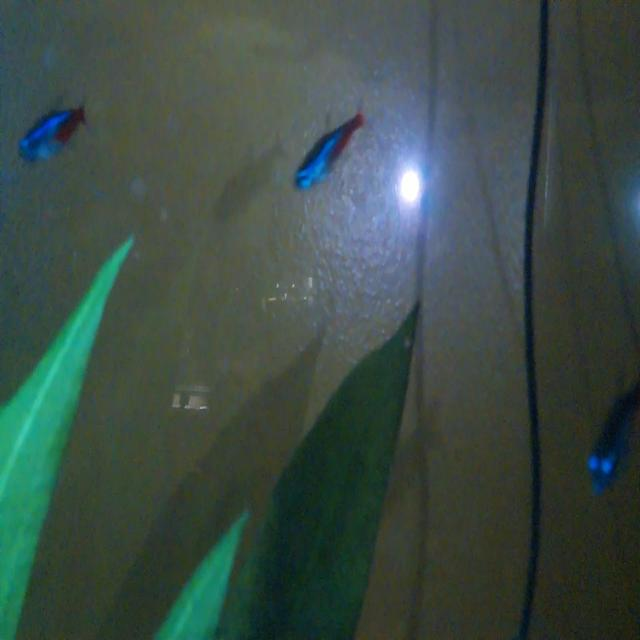fish: (285, 99, 372, 206), (16, 99, 92, 169)
